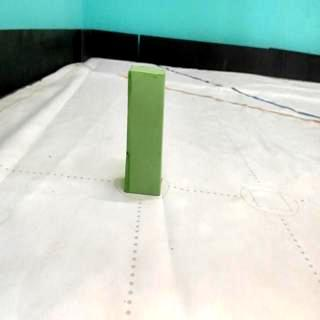greenbox: (124, 61, 168, 198)
